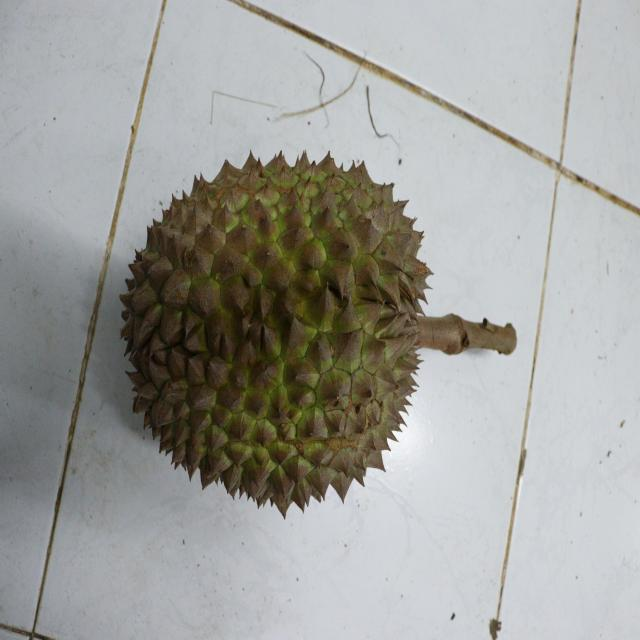mature: (120, 152, 438, 510)
